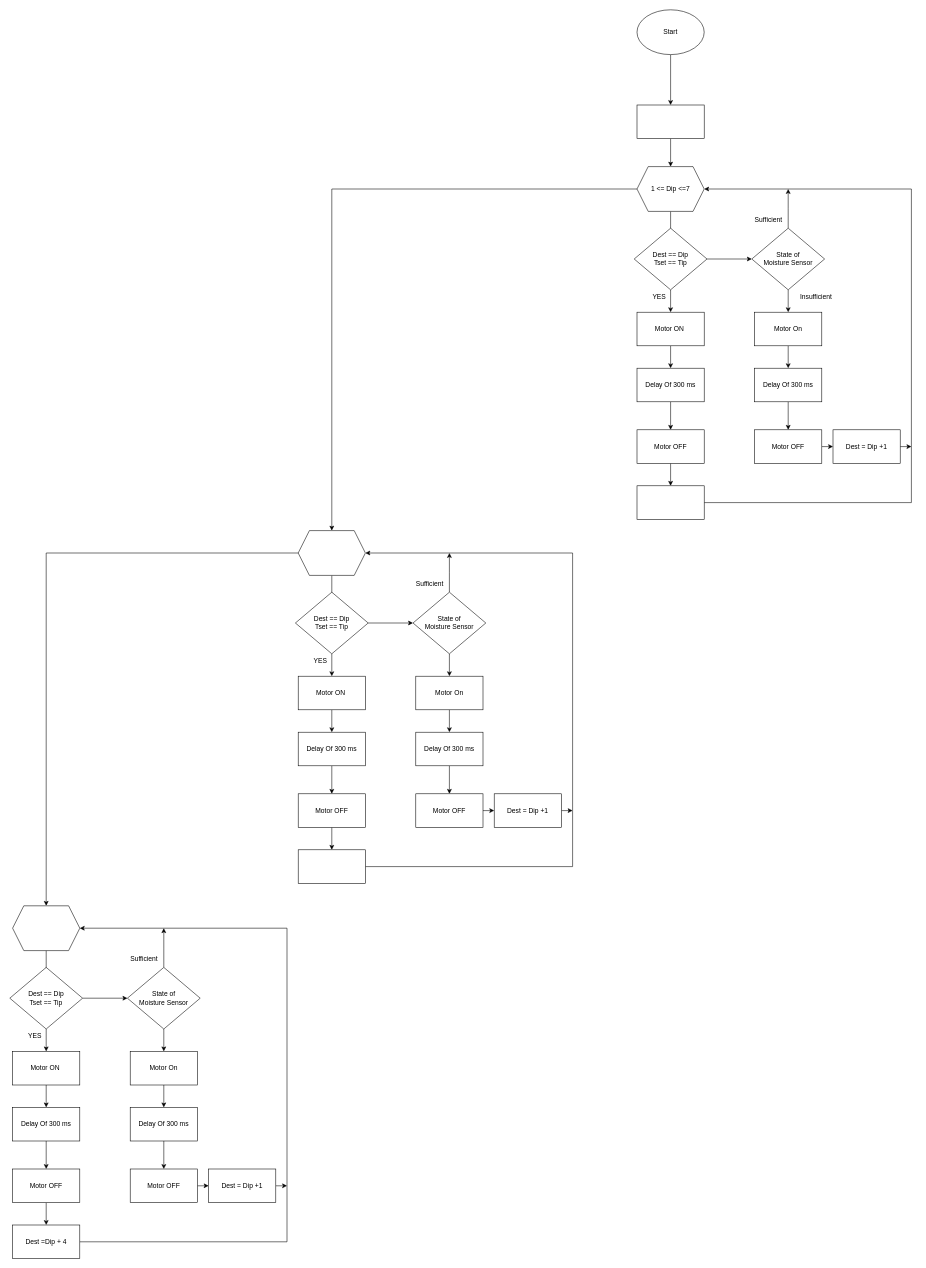
Image size: 926x1268. Some labels were removed from this diagram. Each missing label, with the box of its shape:
16 <= Dip <= 31: (12, 905, 80, 951)
8 <= Dip <= 15: (298, 530, 365, 575)
Dest =Dip + 3: (298, 849, 365, 883)
Dest =Dip +2: (636, 485, 704, 519)
Dip = Input Time Tip = Input Time: (636, 104, 704, 139)
